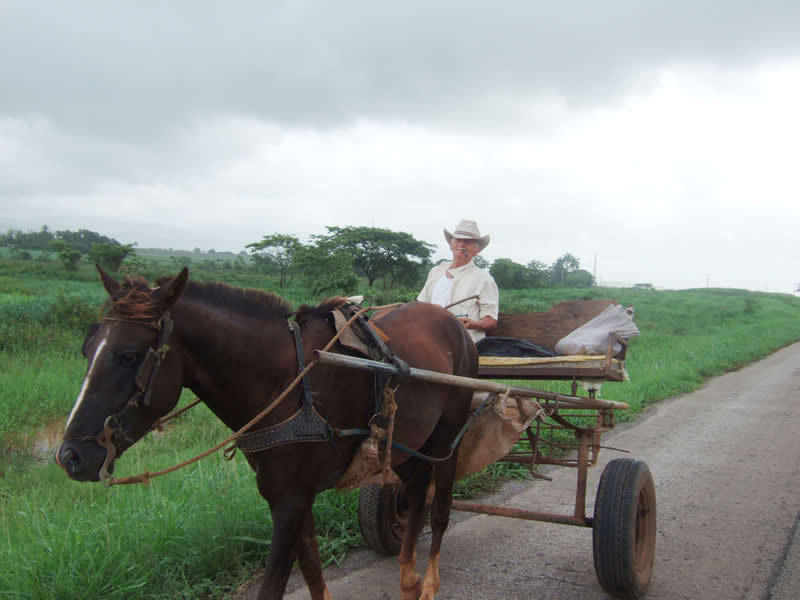horse: (57, 262, 478, 600)
